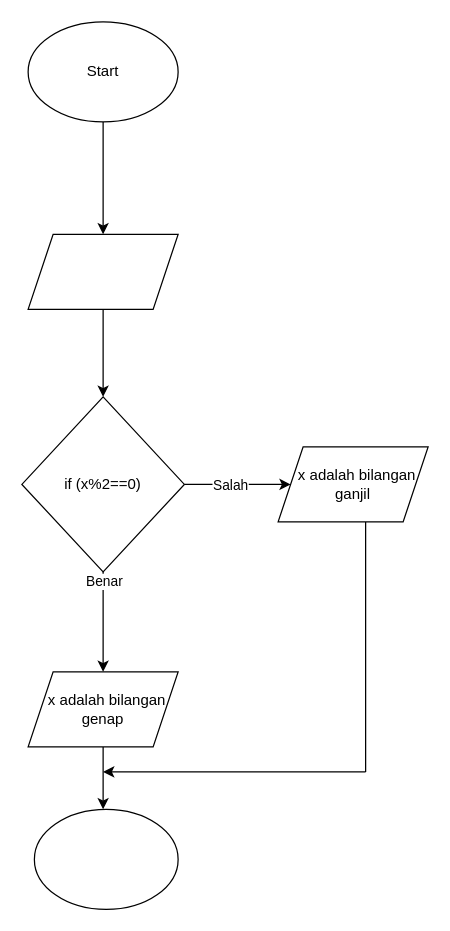
Some shapes in this 450 by 931 pixel diagram are drawn without their labels. Here are the shapes that lost their labels. From the top down, the centre of each, then its label:
At (x=102, y=271): "input x".
At (x=105, y=858): "End".
